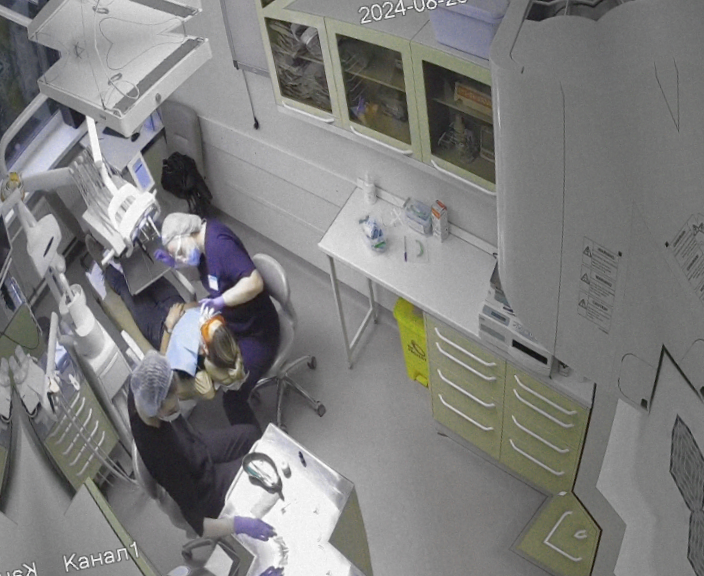Patient: (74, 225, 252, 421)
